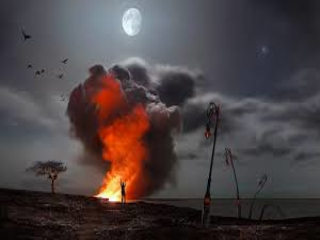fire: (95, 139, 143, 204)
smoke: (51, 44, 305, 157)
